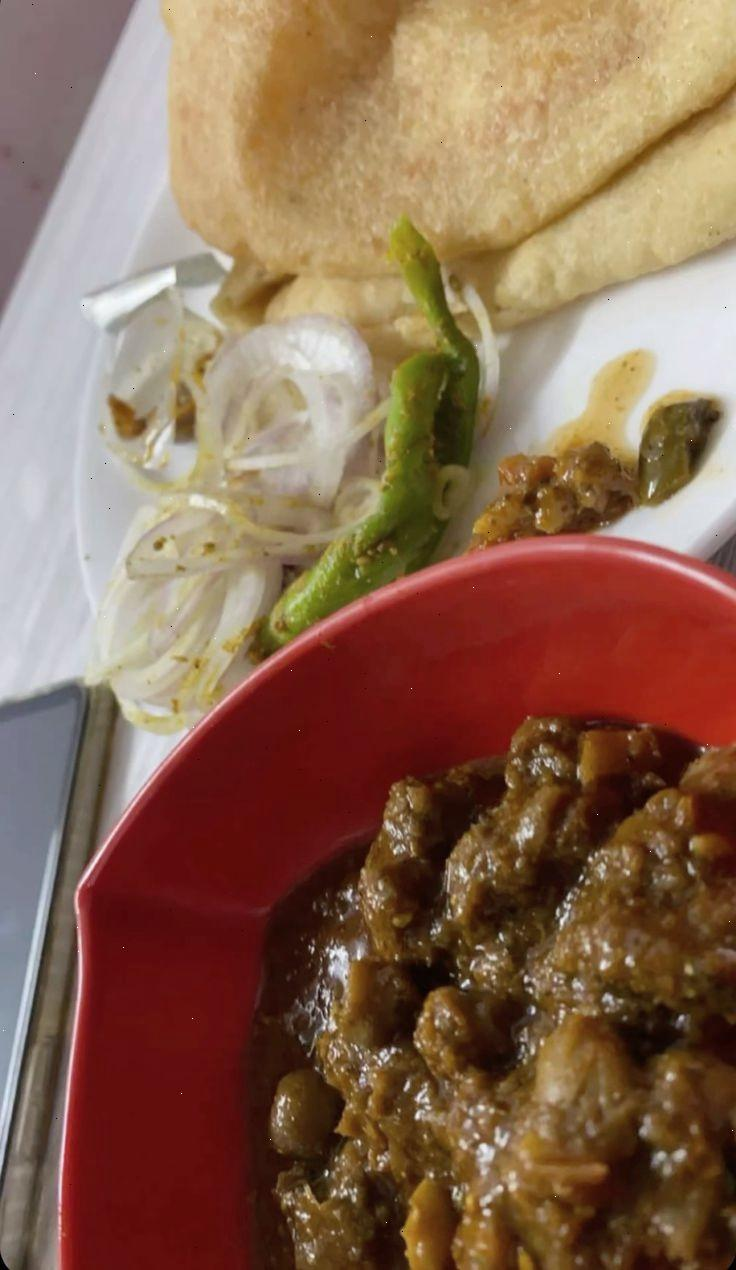chole: (220, 724, 736, 1270)
puri: (173, 0, 736, 267)
salad: (53, 281, 423, 641)
